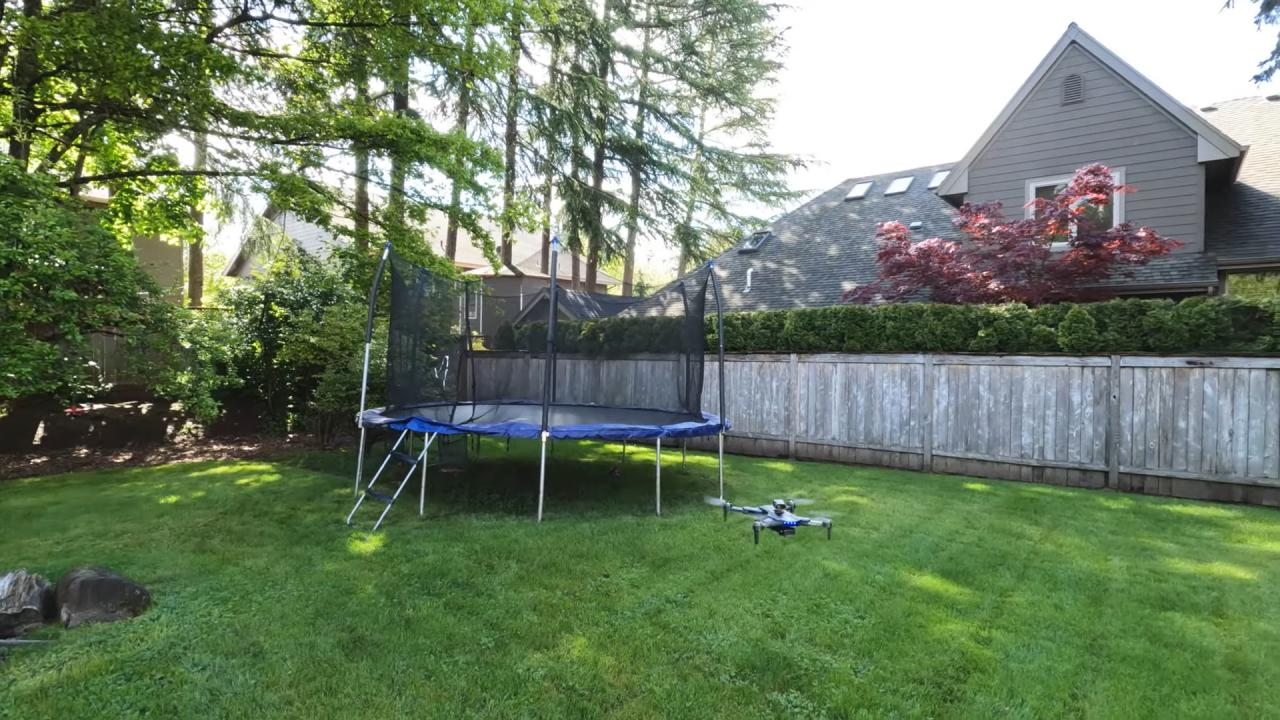Drone: (706, 490, 840, 556)
